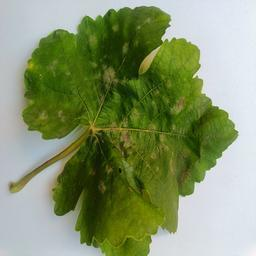Powdery-Mildew: (107, 98, 142, 157), (157, 41, 199, 74), (141, 194, 175, 234), (105, 202, 136, 241), (26, 109, 71, 135), (147, 124, 174, 165), (167, 151, 195, 188), (28, 57, 72, 76), (161, 91, 189, 119), (99, 46, 117, 88), (123, 162, 136, 187), (83, 27, 100, 46), (109, 22, 119, 32), (87, 166, 97, 176)
